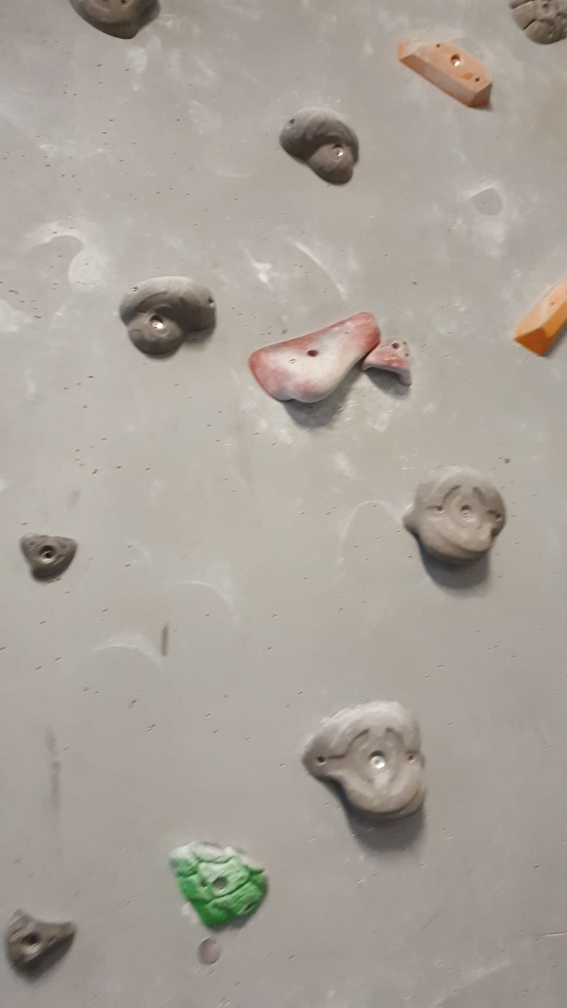Crimp: (17, 530, 83, 588)
Hand Start: (191, 932, 228, 973)
Jug: (299, 696, 435, 825), (397, 461, 511, 573), (115, 274, 219, 365), (279, 104, 366, 190)
Pinch: (395, 35, 494, 115), (509, 272, 567, 358)
